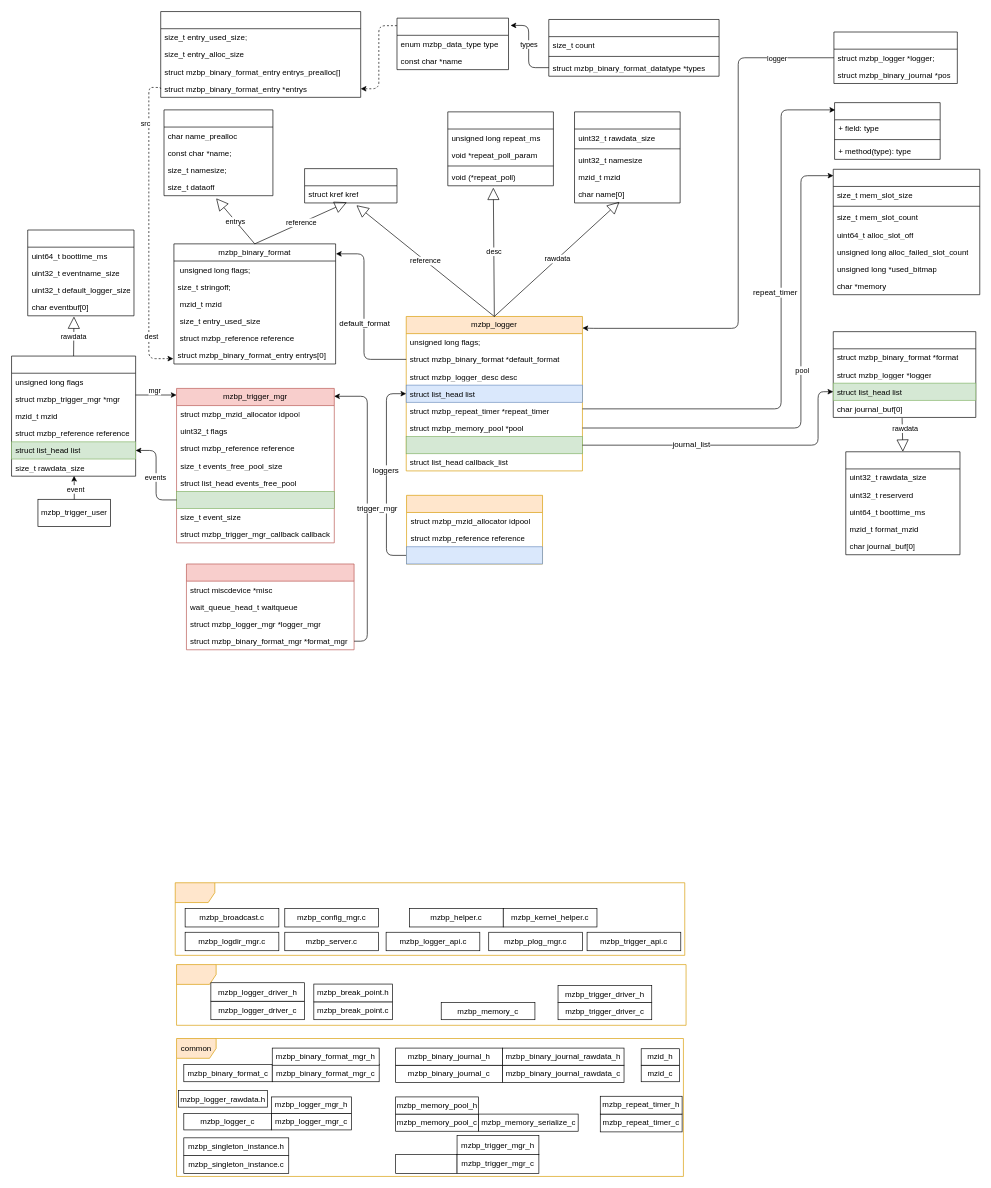
Some shapes in this 991 by 1188 pixel diagram are drawn without their labels. The box of each missing label's shape, as (x1, y1, x2, y2) in pixels:
kernel: (176, 964, 686, 1025)
mzbp_binary_format_build_parameter: (548, 19, 719, 76)
mzbp_binary_format_builder: (160, 11, 361, 97)
mzbp_binary_format_datatype: (396, 17, 509, 70)
mzbp_binary_format_entry: (163, 109, 273, 196)
mzbp_binary_journal: (833, 331, 976, 417)
mzbp_binary_journal_rawdata: (845, 451, 960, 555)
mzbp_logger_desc: (447, 111, 553, 186)
mzbp_logger_iterator: (833, 31, 957, 83)
mzbp_logger_mgr: (406, 495, 543, 564)
mzbp_logger_rawdata: (574, 111, 680, 203)
mzbp_memory_pool: (833, 169, 980, 295)
mzbp_reference: (304, 168, 397, 203)
mzbp_repeat_timer: (834, 102, 940, 159)
mzbp_trigger_c: (395, 1154, 457, 1173)
mzbp_trigger_driver: (186, 563, 354, 650)
mzbp_trigger_event: (11, 355, 136, 476)
mzbp_trigger_event_rawdata: (27, 229, 134, 316)
struct list_head events: (176, 491, 334, 509)
struct list_head journal_list: (406, 436, 582, 454)
struct list_head loggers: (406, 546, 543, 564)
userspace: (175, 882, 685, 955)
